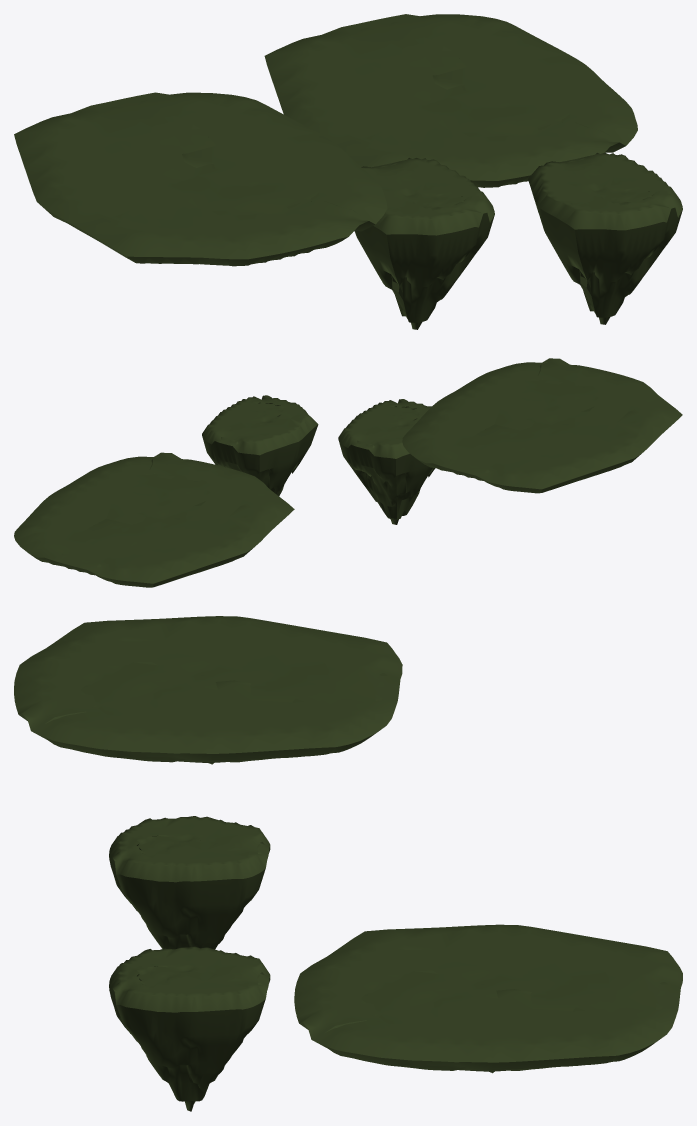
Rendered from air plataforms v2.fbx.
3 views of the same model, one above another, from view 1: azimuth 30°, elevation 25°; view 2: azimuth 150°, elevation 25°; view 3: azimuth 270°, elevation 25° (orthographic). The views are drawn at different scales.
Visible parts, largest first — view 1: polySurface4, polySurface5, polySurface6, polySurface3; view 2: polySurface4, polySurface5, polySurface6, polySurface3; view 3: polySurface4, polySurface5, polySurface6, polySurface3.
Part boxes in pixels (<box>): polySurface4: <box>14,92,387,266</box>; polySurface5: <box>264,14,637,187</box>; polySurface6: <box>528,152,682,324</box>; polySurface3: <box>355,158,494,329</box>; polySurface4: <box>402,358,682,493</box>; polySurface5: <box>14,452,294,587</box>; polySurface6: <box>202,395,318,496</box>; polySurface3: <box>338,399,434,524</box>; polySurface4: <box>14,616,402,764</box>; polySurface5: <box>294,924,682,1073</box>; polySurface6: <box>109,946,270,1111</box>; polySurface3: <box>109,816,270,949</box>.
Bounding box in the file's own units: 14.09 × 4.83 × 12.22.
